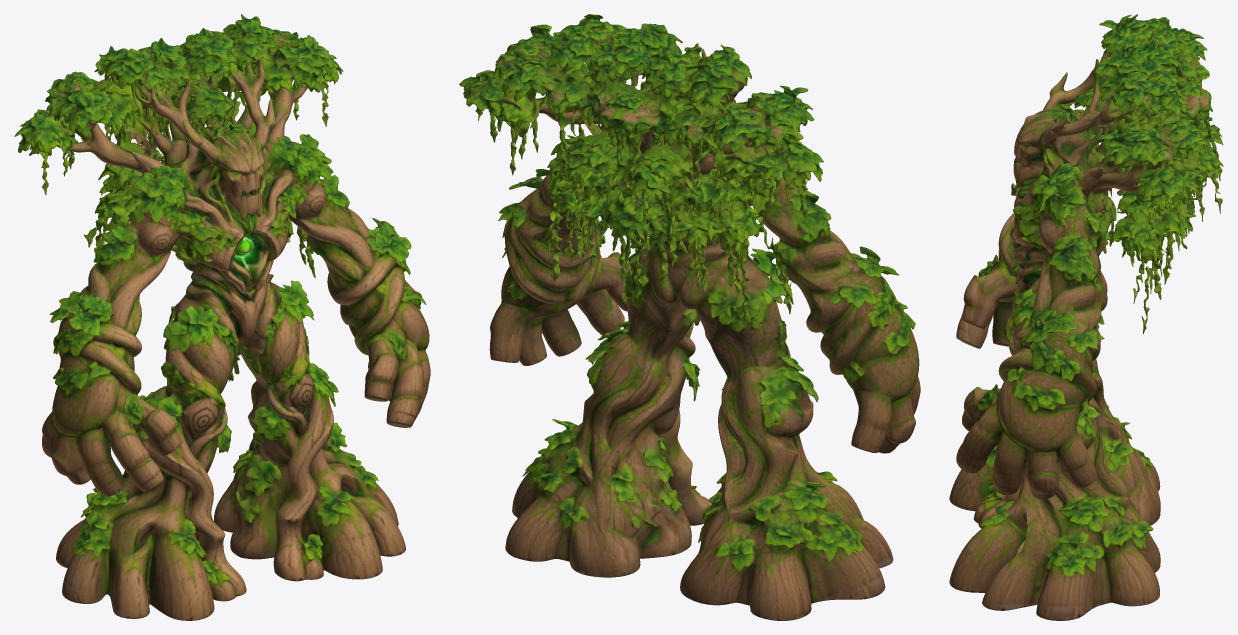
Rendered from Bark Titan.glb.
The picture shows the model from 3 angles, left to right: view 1: azimuth 30°, elevation 25°; view 2: azimuth 150°, elevation 25°; view 3: azimuth 270°, elevation 25°; orthographic projection. The views are drawn at different scales.
Size of the model in its own units: 1.49 by 1.9 by 0.9492.
1 material, 1 textured.
